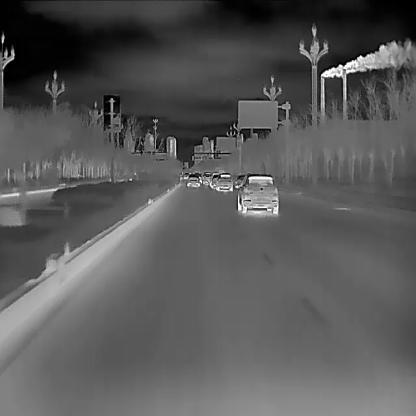car: (236, 173, 279, 216), (216, 172, 231, 190), (187, 174, 200, 186)
